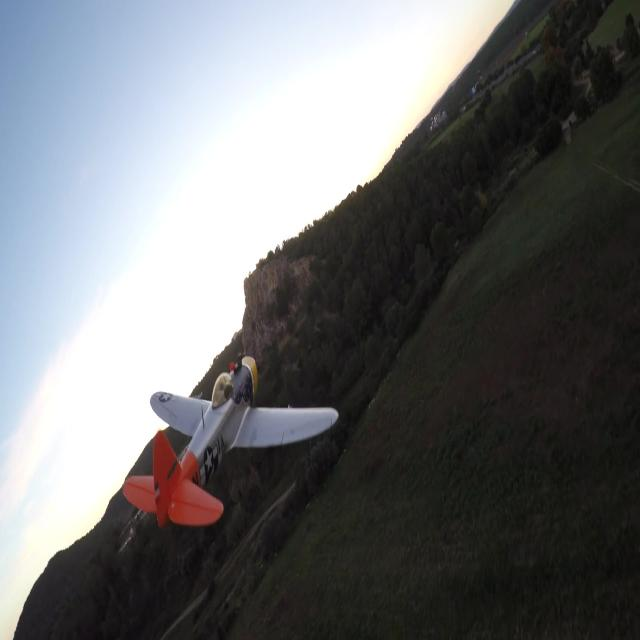iha: (121, 351, 339, 528)
